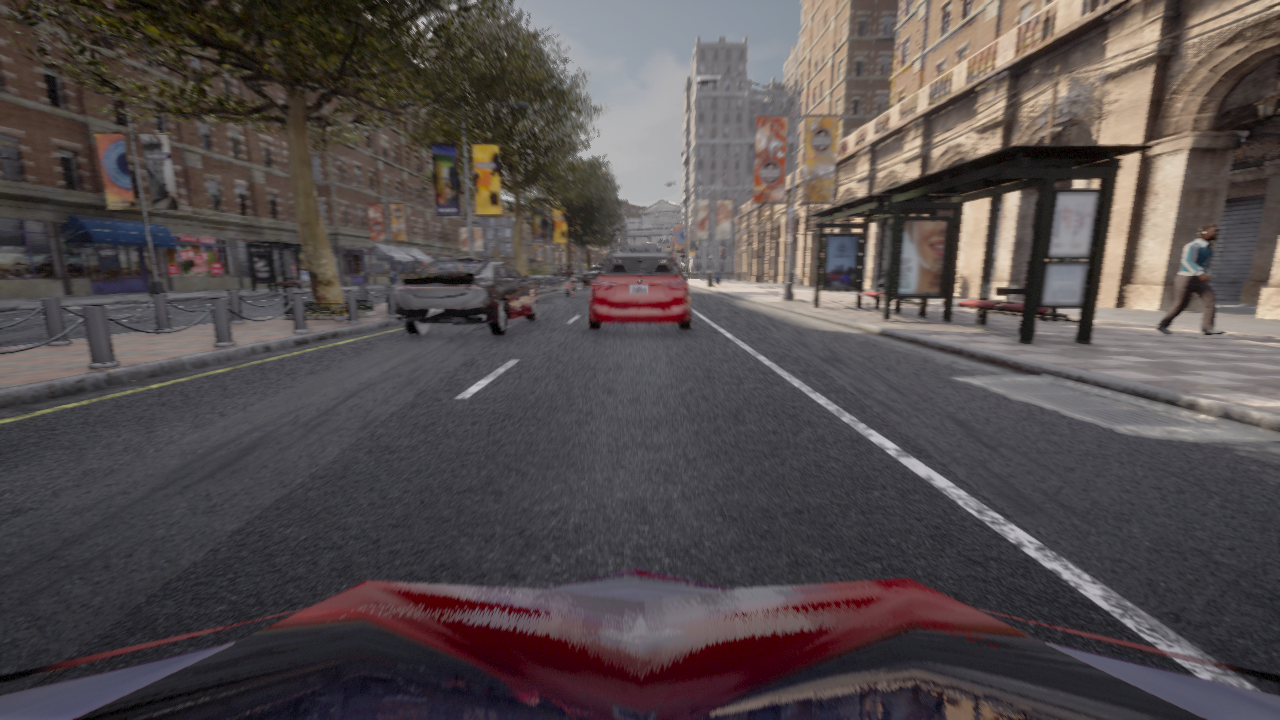cyclist: (0, 569, 1279, 719), (393, 258, 539, 336), (588, 252, 691, 330), (582, 268, 599, 288), (564, 275, 576, 297), (622, 244, 657, 251)
pedestrian: (1156, 225, 1224, 335), (1039, 308, 1060, 321)
